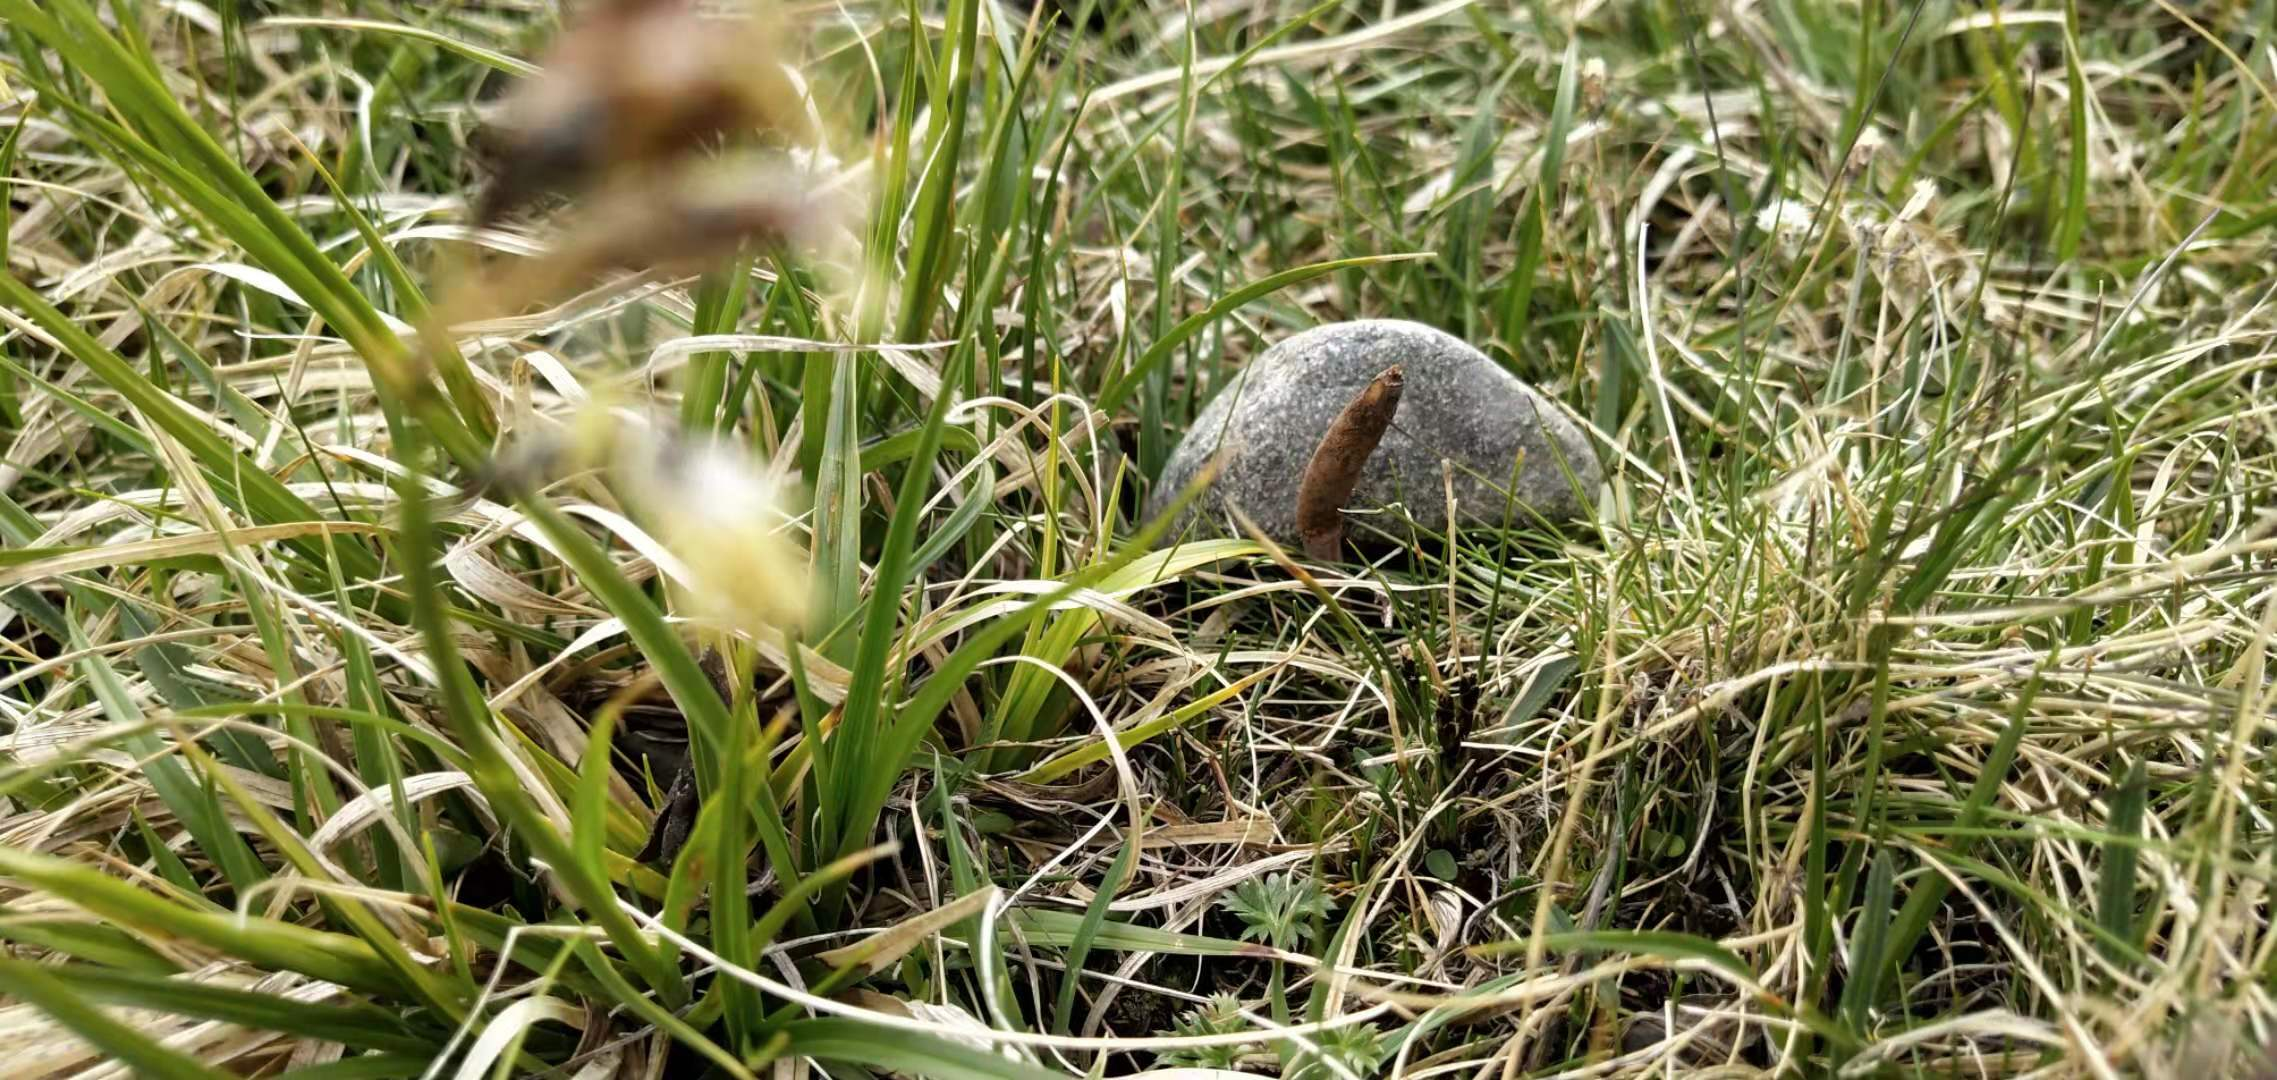cpf: (1290, 359, 1406, 572)
